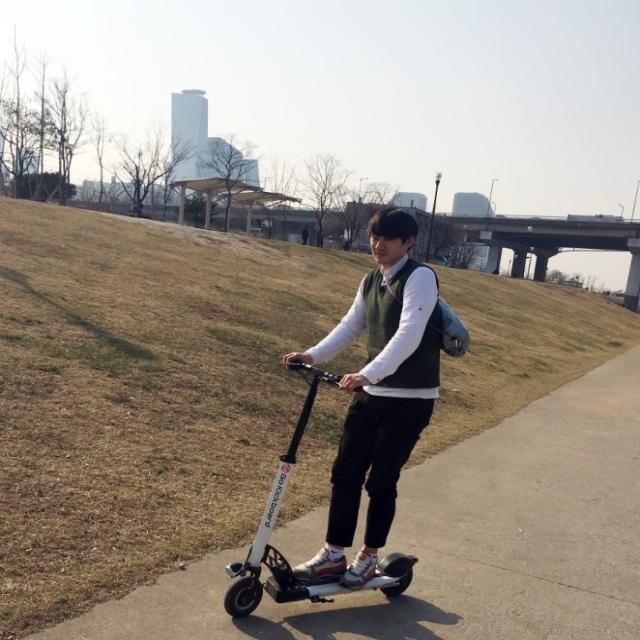non-helmet: (186, 165, 477, 632)
